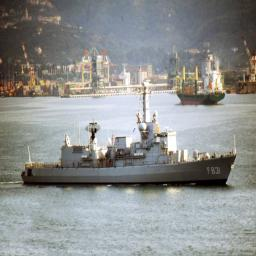Fragata: (20, 84, 240, 189)
